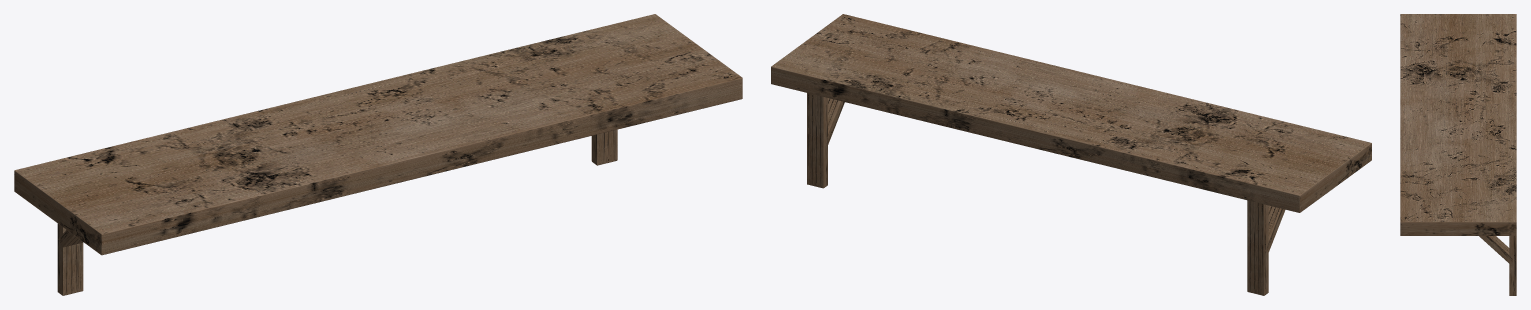
The model's file is shelf.glb.
The picture shows the model from 3 angles, left to right: view 1: azimuth 30°, elevation 25°; view 2: azimuth 150°, elevation 25°; view 3: azimuth 270°, elevation 25°; orthographic projection. The views are drawn at different scales.
Parts seen in each view (by area): view 1: group3; view 2: group3; view 3: group3.
Part boxes in pixels (bbox=[...]): group3: bbox=[14, 14, 742, 295]; group3: bbox=[771, 14, 1371, 295]; group3: bbox=[1400, 14, 1516, 295].
Bounding box in the file's own units: 5.56 × 1.1 × 1.32.
Materials: 1 (1 with a texture image).
